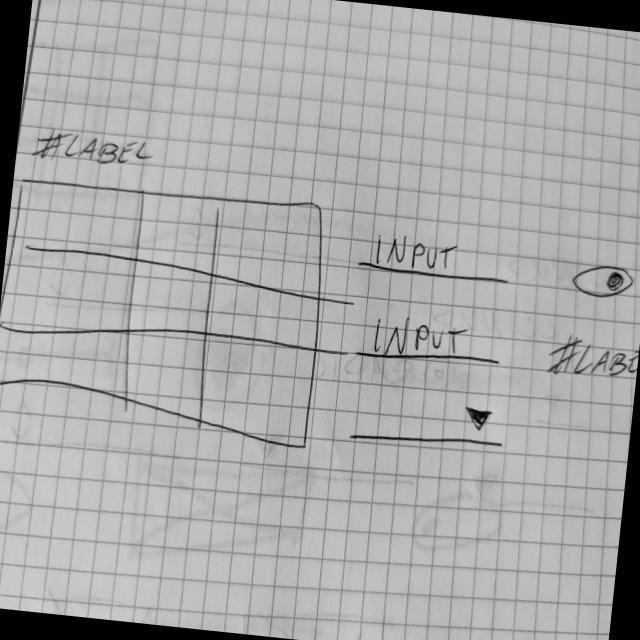input: (353, 310, 505, 376), (357, 228, 515, 290)
label: (31, 126, 157, 175), (546, 330, 640, 384)
select: (348, 392, 509, 460)
table: (1, 172, 333, 450)
toggle: (569, 260, 638, 304)
